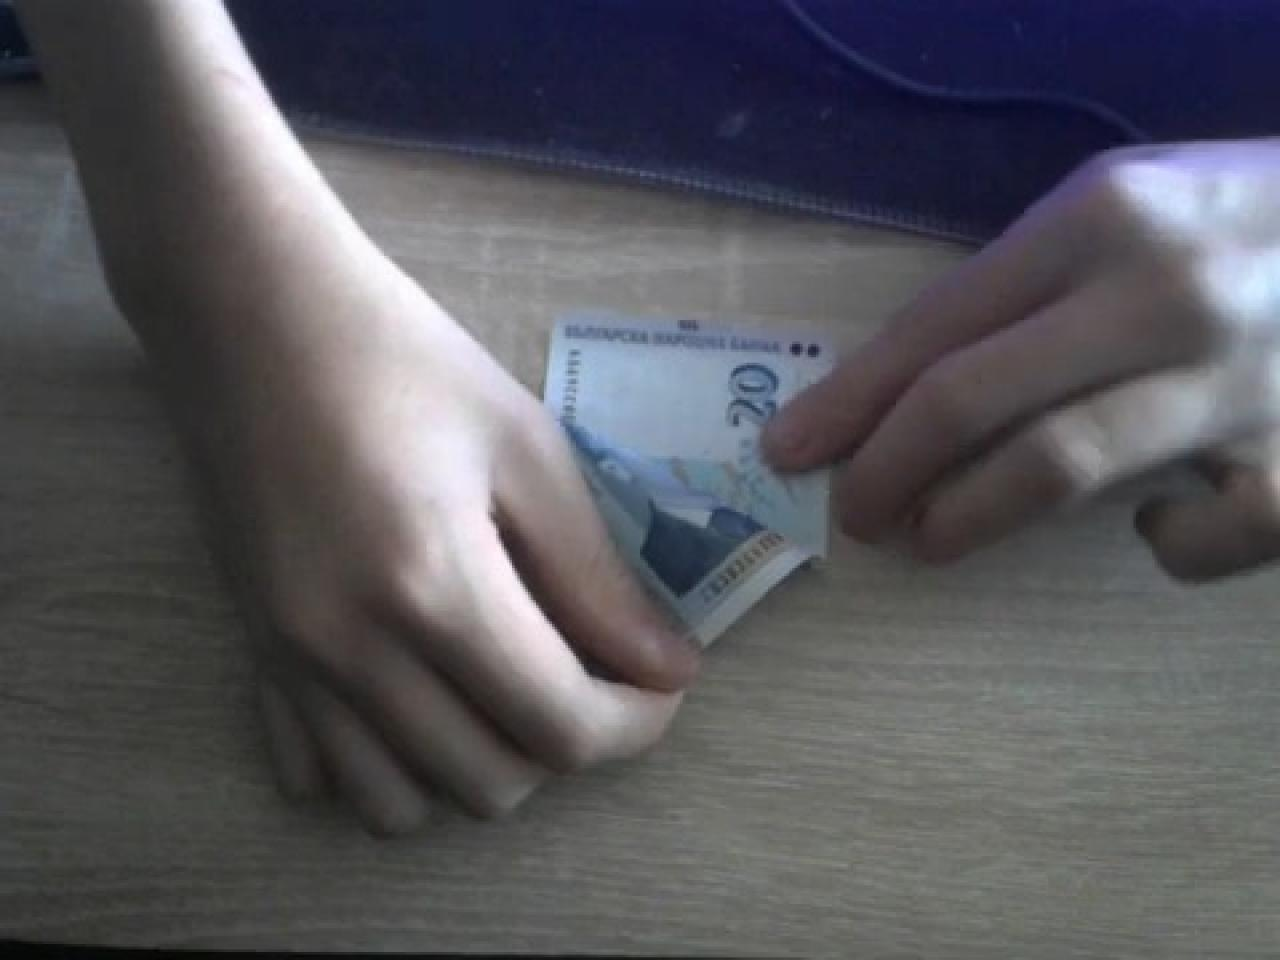20leva: (536, 310, 846, 655)
